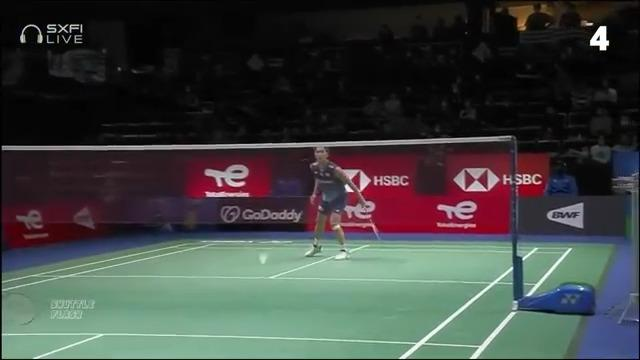Shuttlecock: (258, 252, 272, 264)
